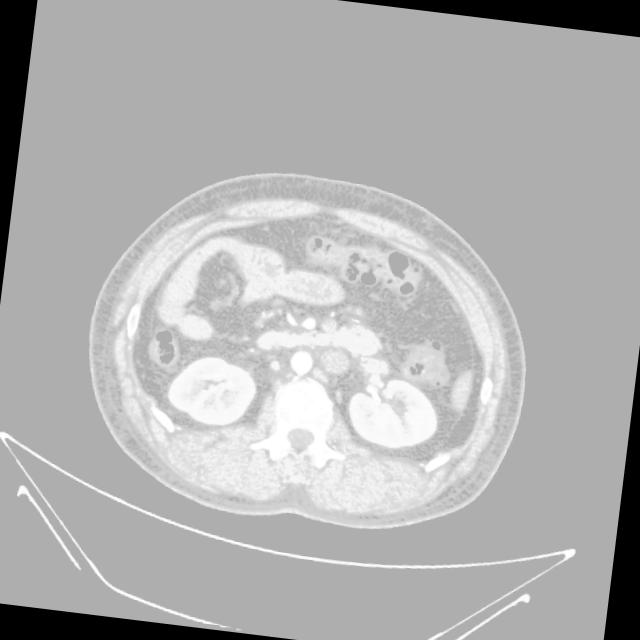NORMAL: (68, 124, 575, 556)
